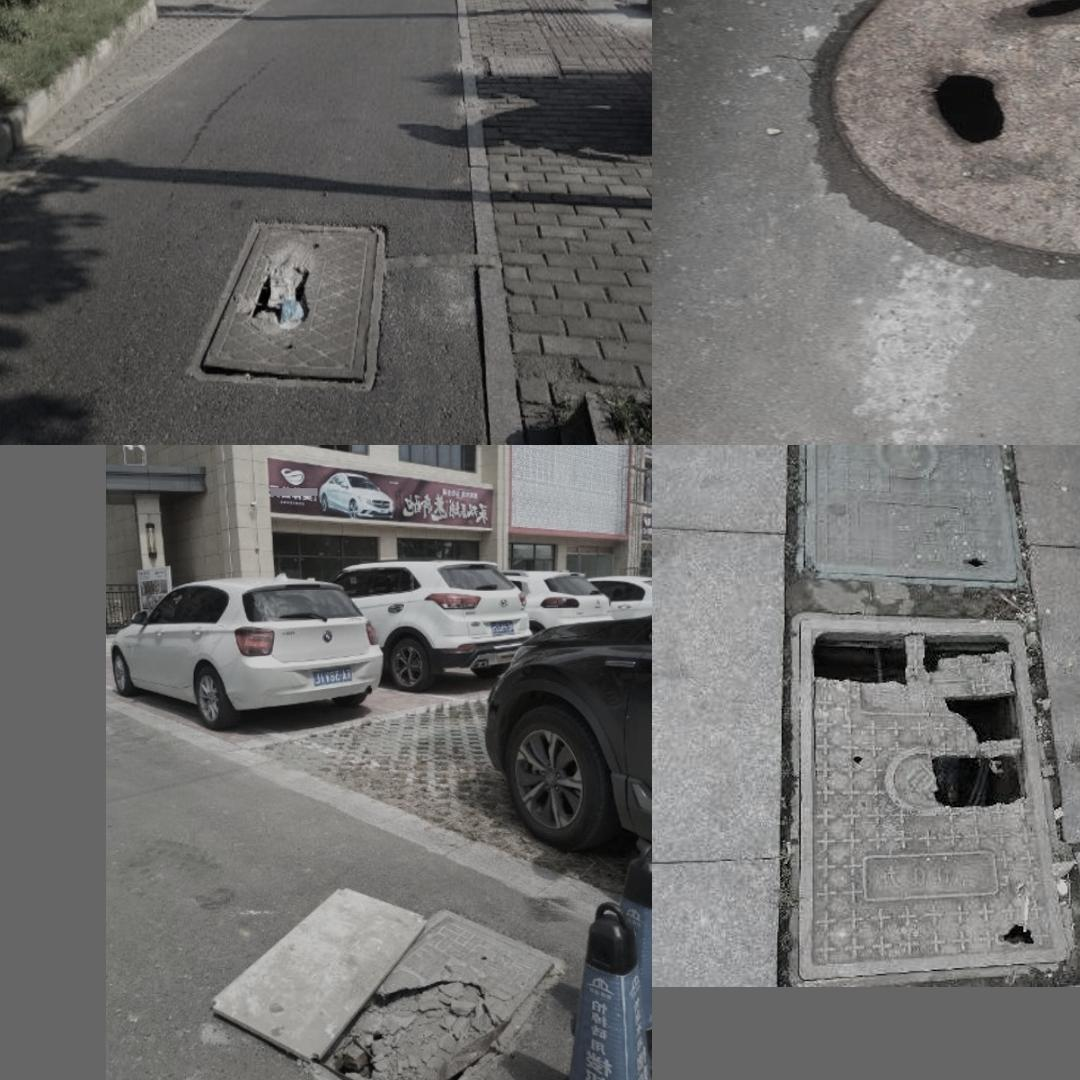broke: (789, 611, 1079, 987), (772, 0, 1080, 277), (200, 904, 559, 1080), (186, 219, 384, 392)
